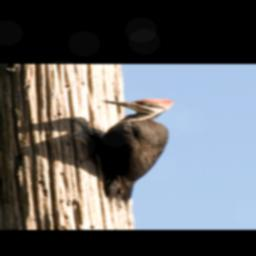Woodpecker: (72, 98, 176, 208)
